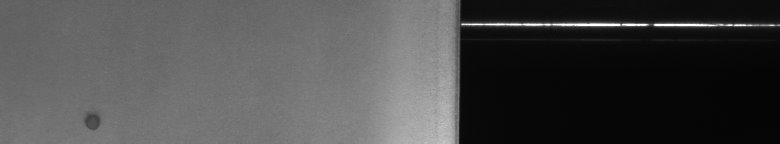fi: (80, 104, 107, 136)
